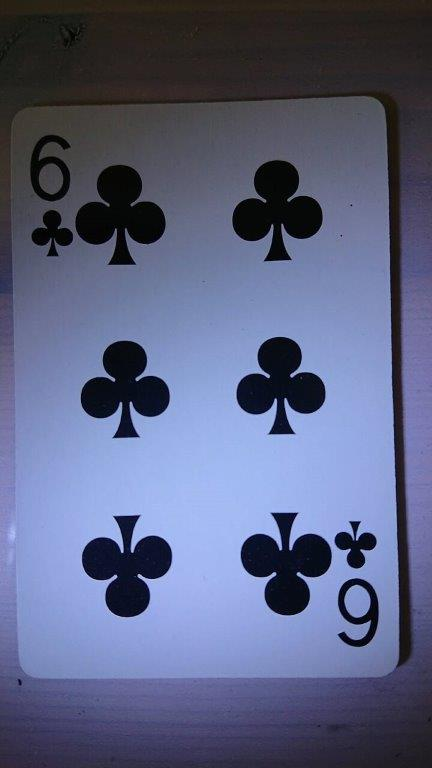6C: (7, 93, 403, 680)
